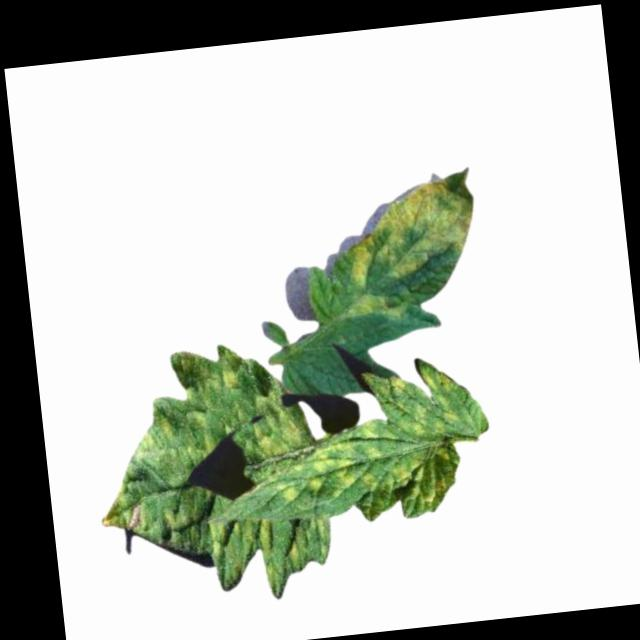Leaf_Mold: (84, 337, 337, 614), (263, 350, 498, 532), (328, 164, 486, 324)
